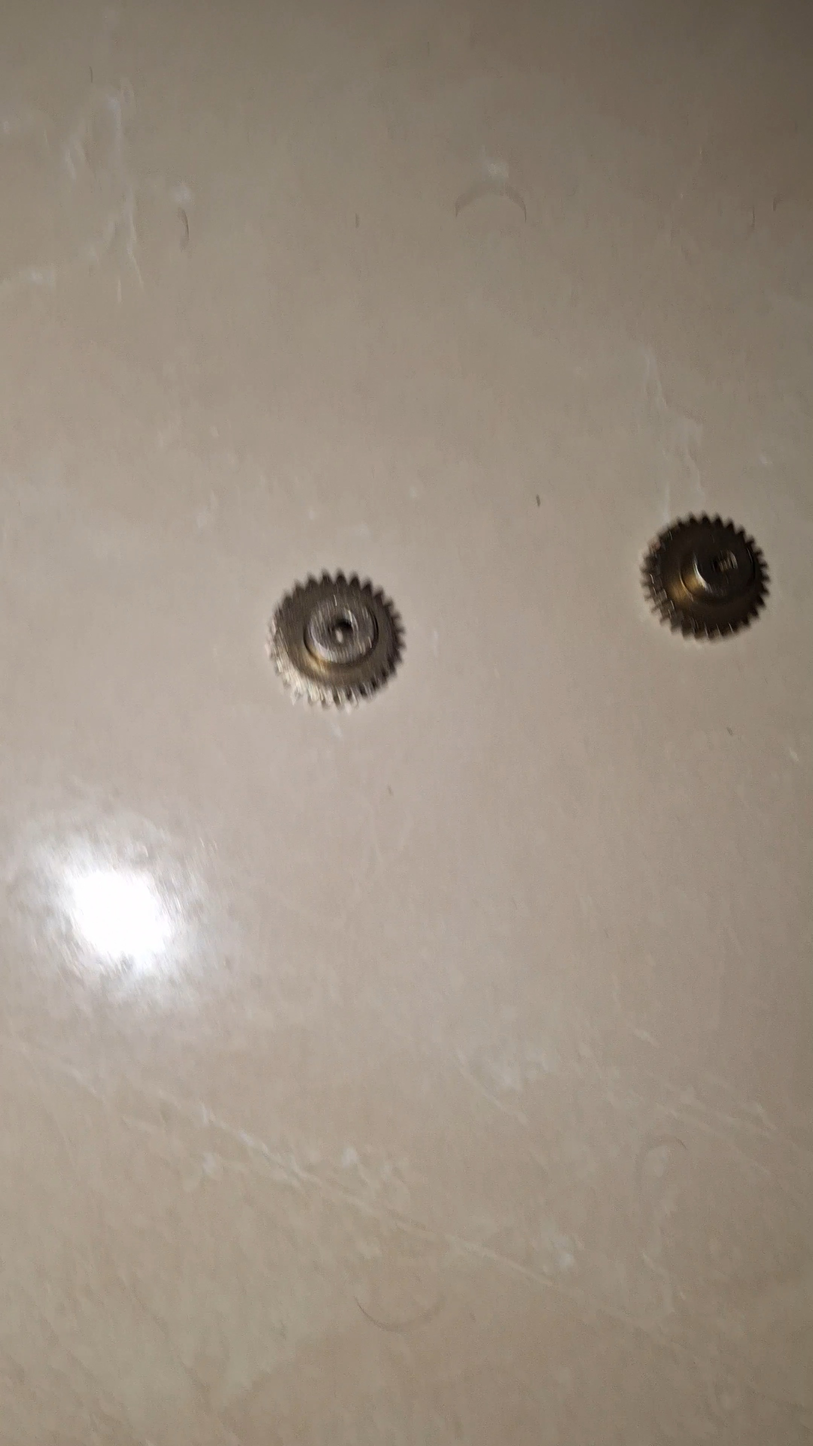spur gear: (268, 573, 403, 706), (643, 515, 768, 637)
